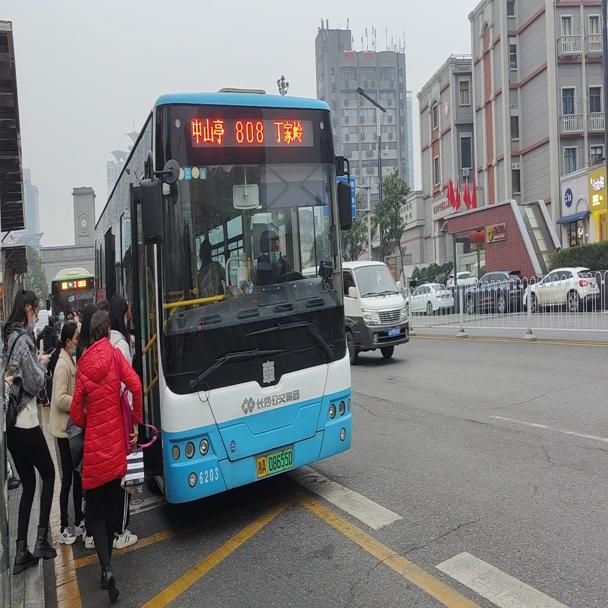bus: (92, 81, 358, 505), (48, 265, 96, 346)
screen: (228, 112, 266, 144), (69, 279, 77, 289)
